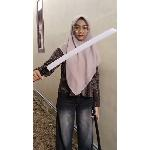Pedang: (36, 26, 117, 80)
